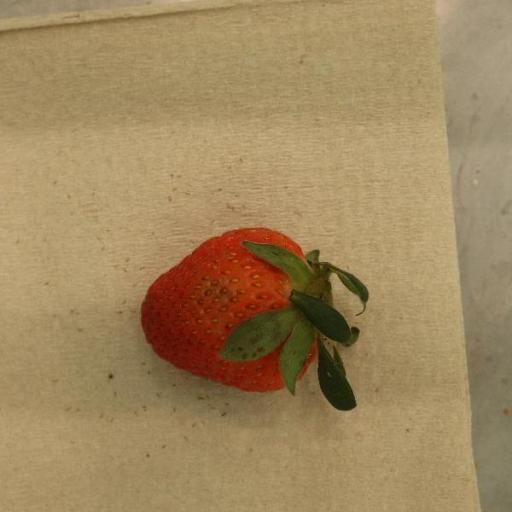Strawberry: (141, 228, 370, 412)
